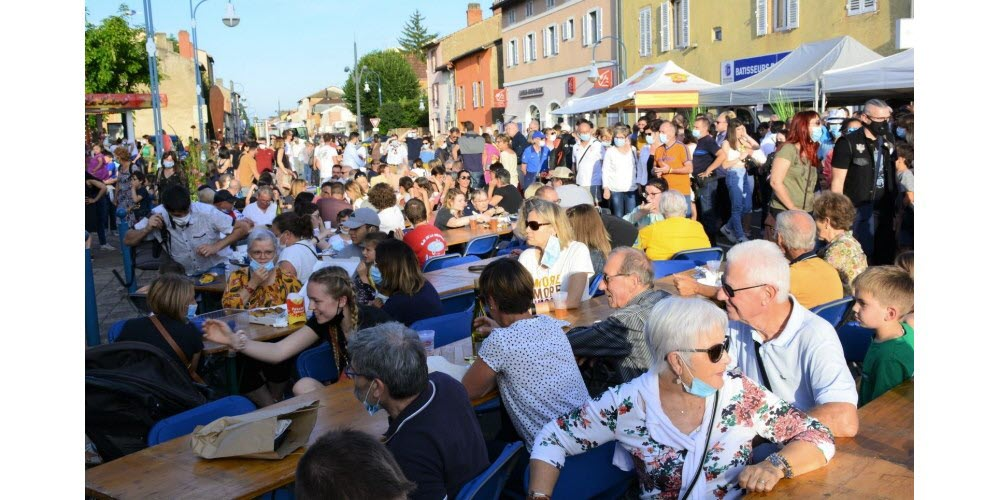with_incorrect_mask: (673, 324, 738, 400), (307, 284, 350, 342), (245, 235, 278, 273)
with_mask: (164, 194, 195, 233), (606, 125, 628, 149), (653, 126, 673, 147)
without_mask: (708, 257, 759, 322), (590, 257, 633, 317), (517, 204, 550, 252), (344, 220, 368, 247), (452, 193, 467, 211)
